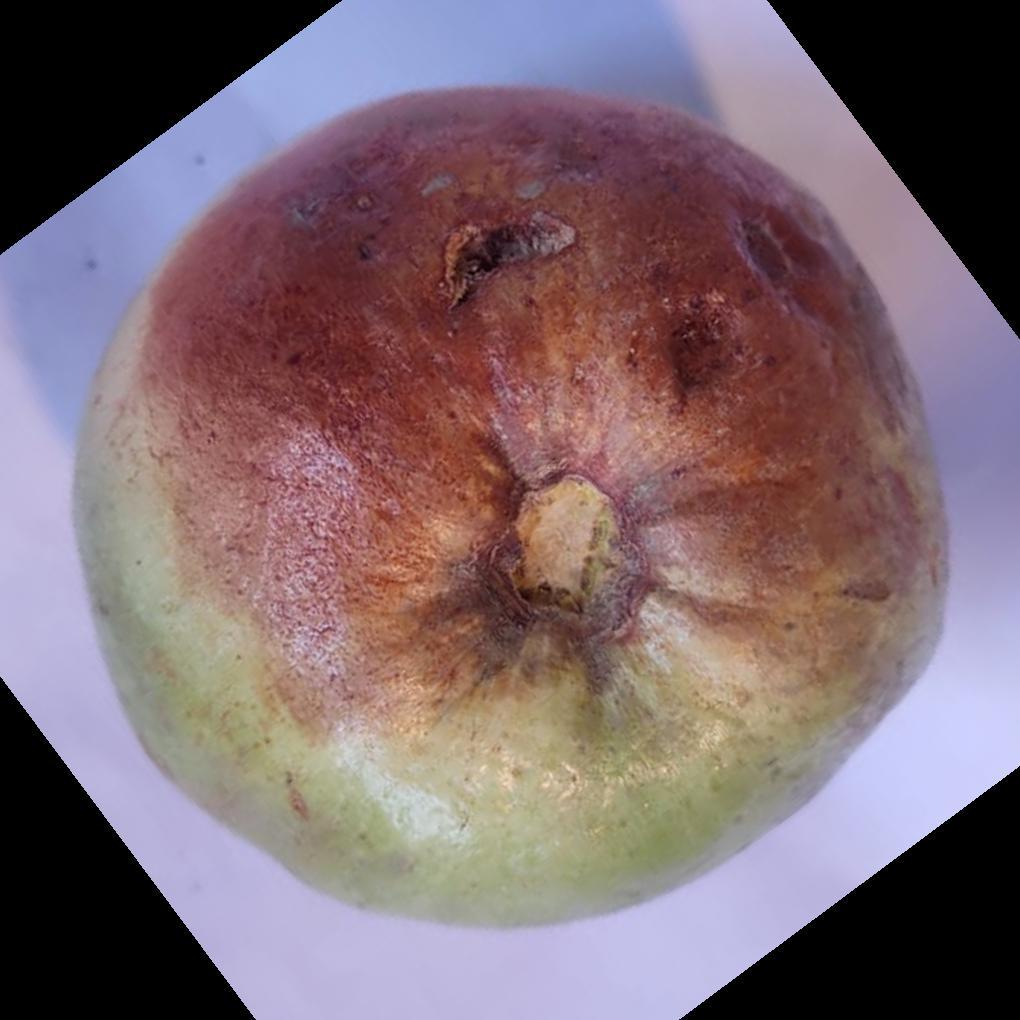FreshOrange: (69, 85, 951, 937)
